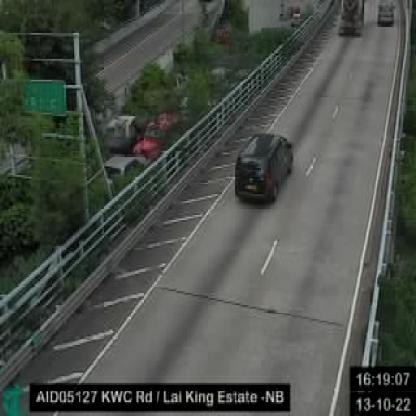Car: (233, 133, 292, 205), (379, 0, 396, 25)
Truck: (338, 0, 366, 36)
